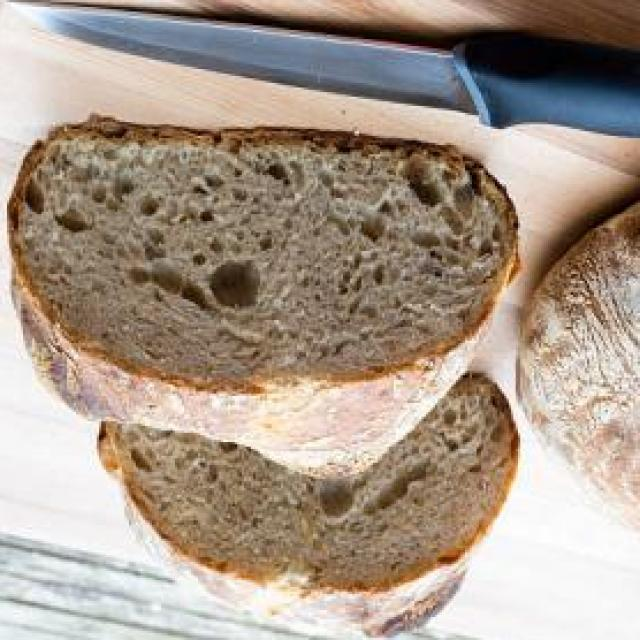knife: (4, 0, 640, 141)
